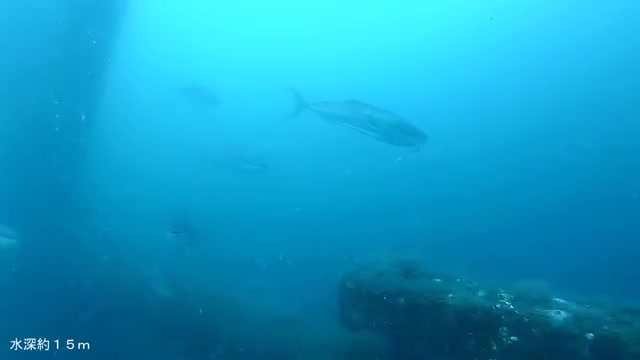smallfish: (283, 81, 447, 164)
